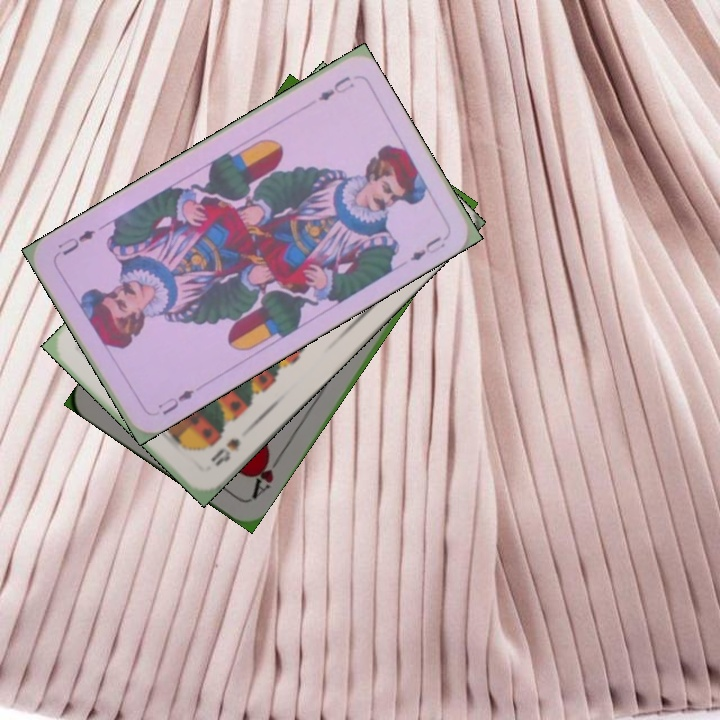EU: (154, 385, 197, 418), (314, 72, 357, 104)
HA: (247, 447, 285, 502)
S8: (206, 433, 243, 469)
